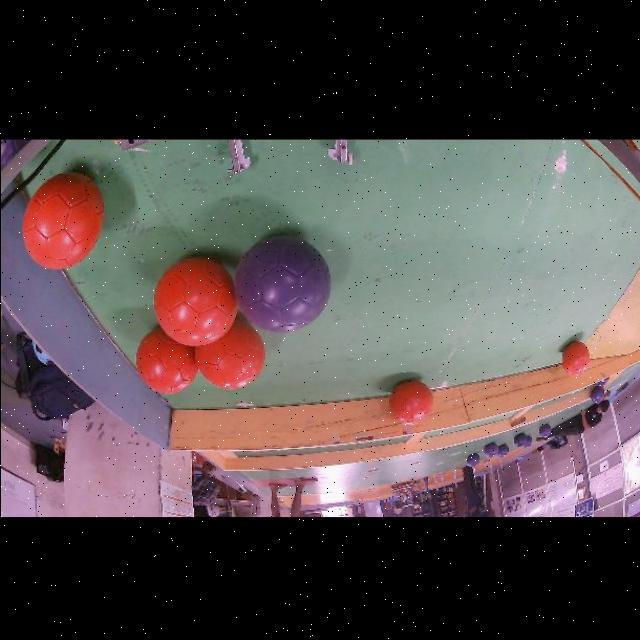P: (233, 234, 329, 331), (483, 441, 497, 457), (590, 385, 603, 402), (466, 452, 479, 466), (538, 423, 551, 436), (497, 443, 508, 457), (521, 435, 531, 448), (595, 378, 609, 386)
R: (22, 171, 102, 268), (152, 256, 236, 344), (194, 319, 265, 387), (135, 326, 197, 393), (388, 380, 431, 424), (561, 340, 589, 376)
